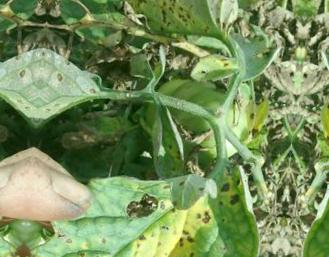Tomato Septoria leaf spot: (20, 148, 272, 257), (127, 0, 254, 55), (35, 48, 104, 133)
